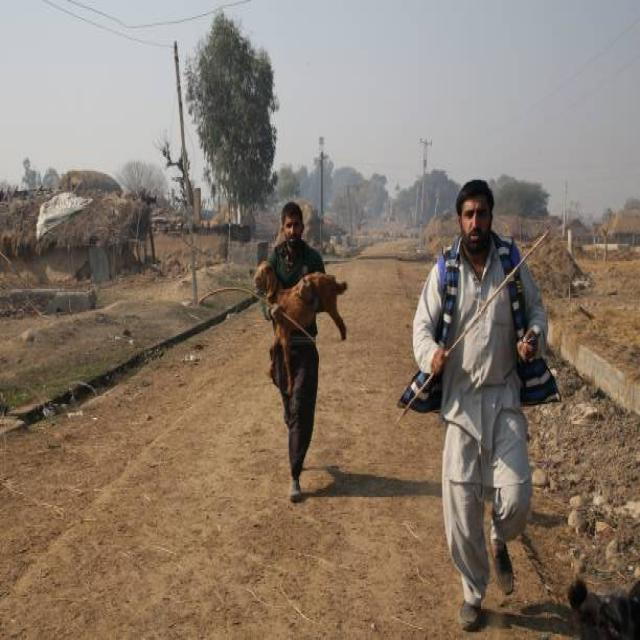civilian: (413, 179, 546, 628), (255, 200, 345, 500)
